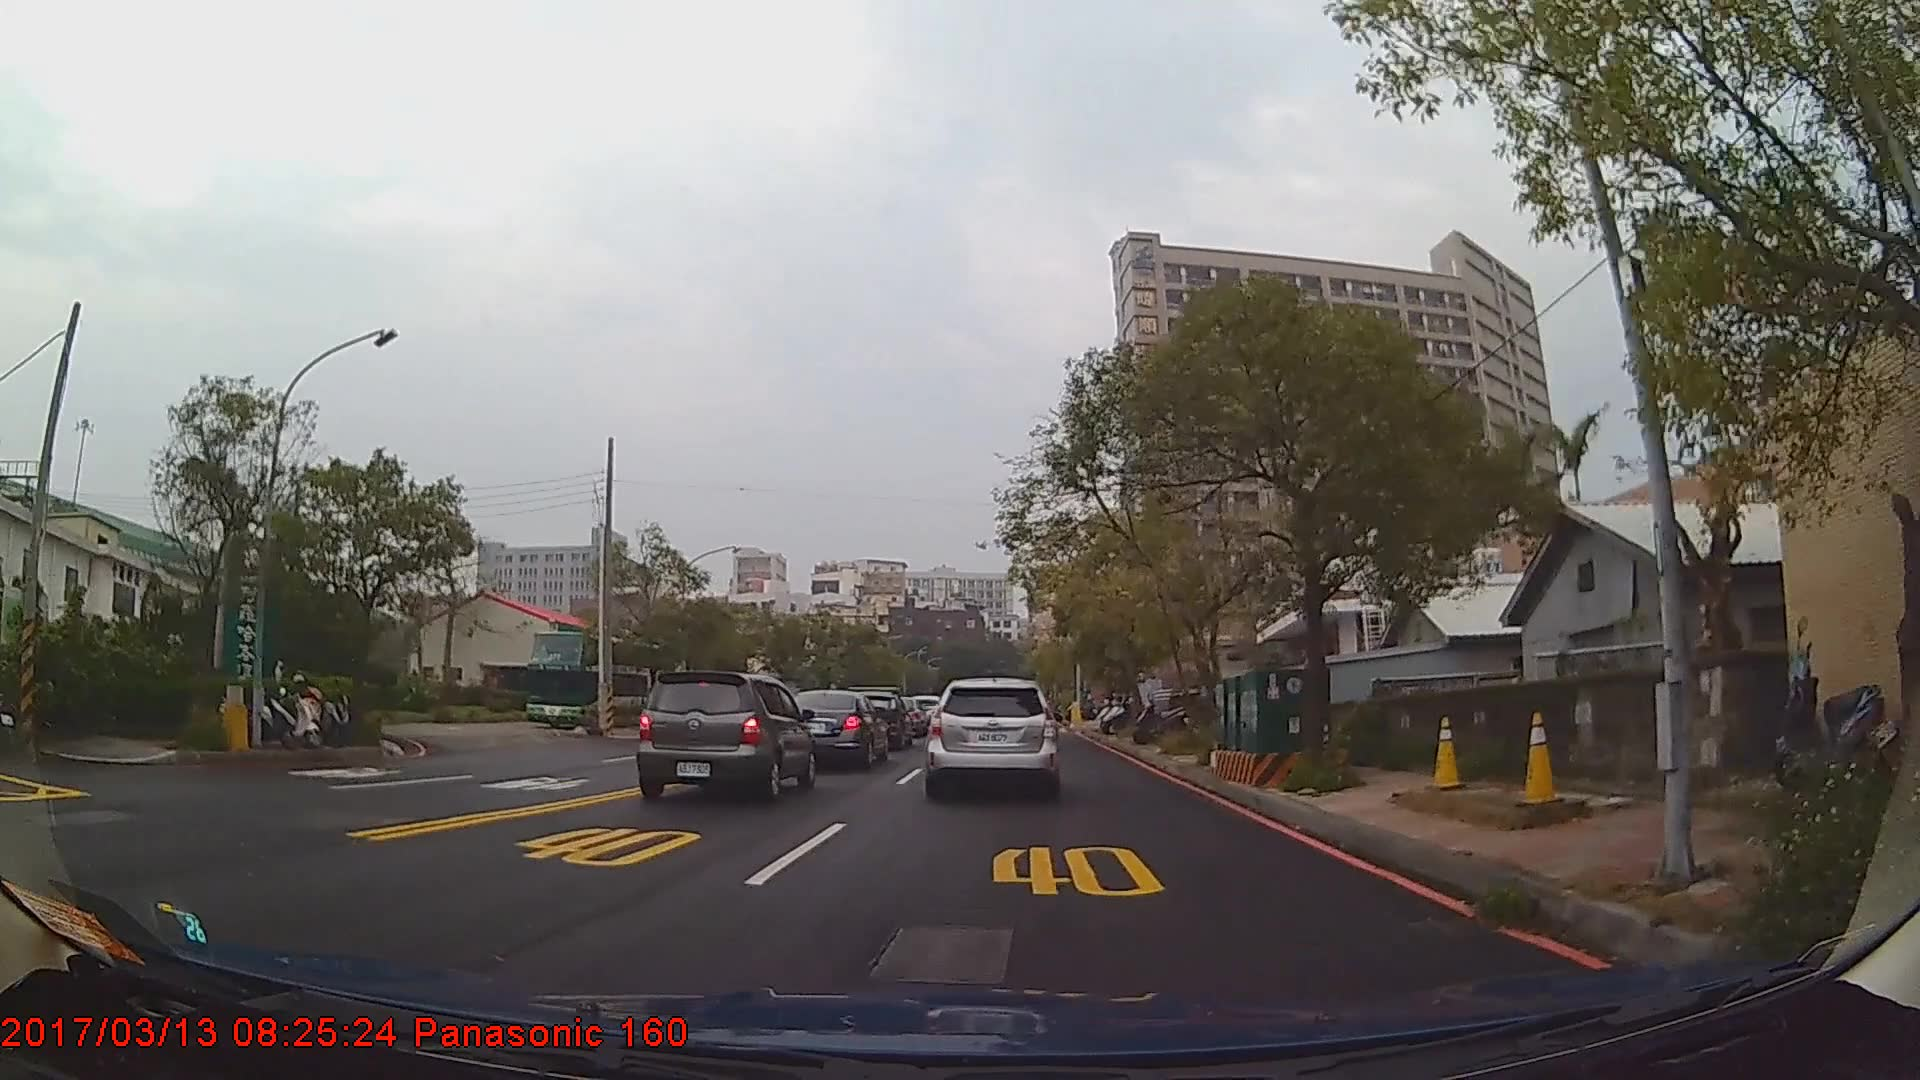vehicle: (632, 669, 812, 800), (522, 629, 682, 735), (924, 674, 1059, 794), (777, 687, 887, 771)
